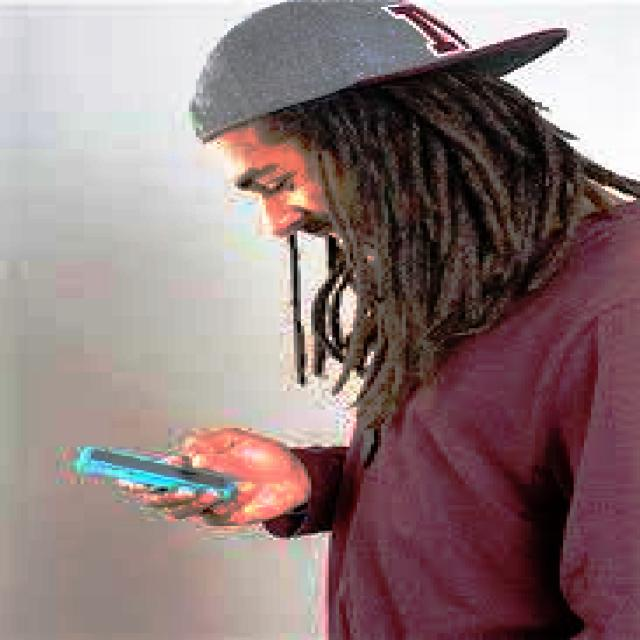TOPI: (182, 0, 566, 142)
